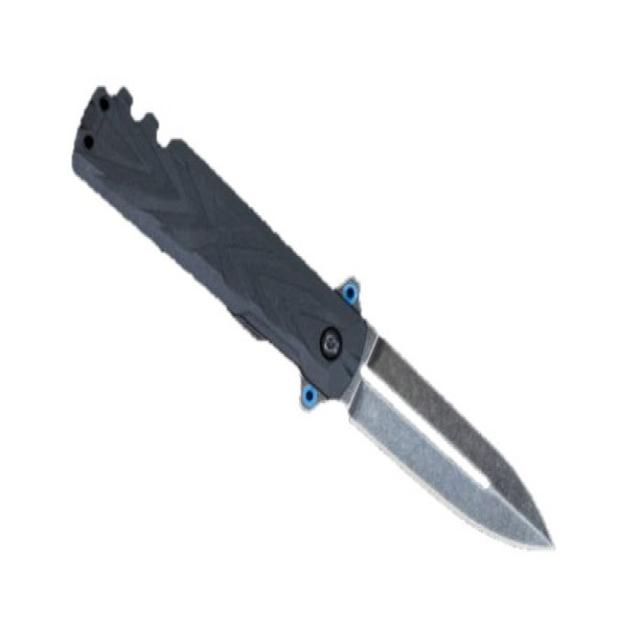knife: (71, 75, 560, 560)
